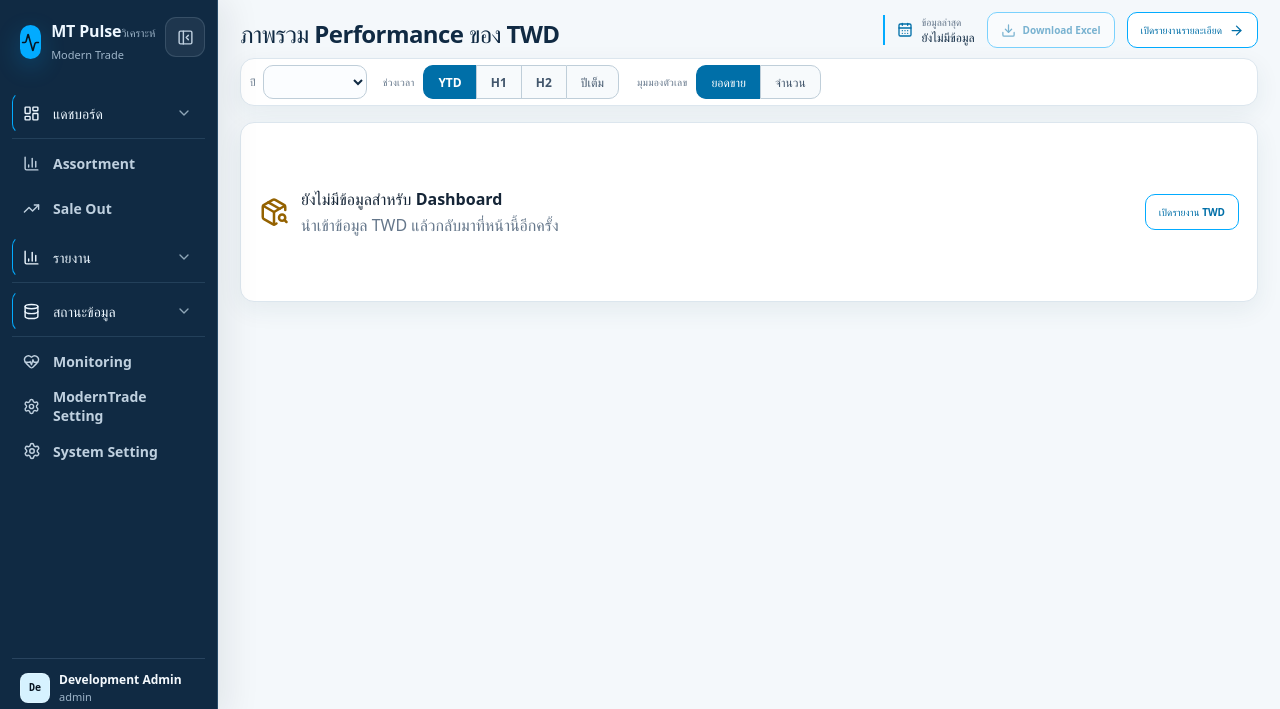
Test: App navigation › opens Sale Out as a direct main menu while dropdown groups remain closed
Click the button "Sale Out" at [108, 208], box [12,187,205,229]
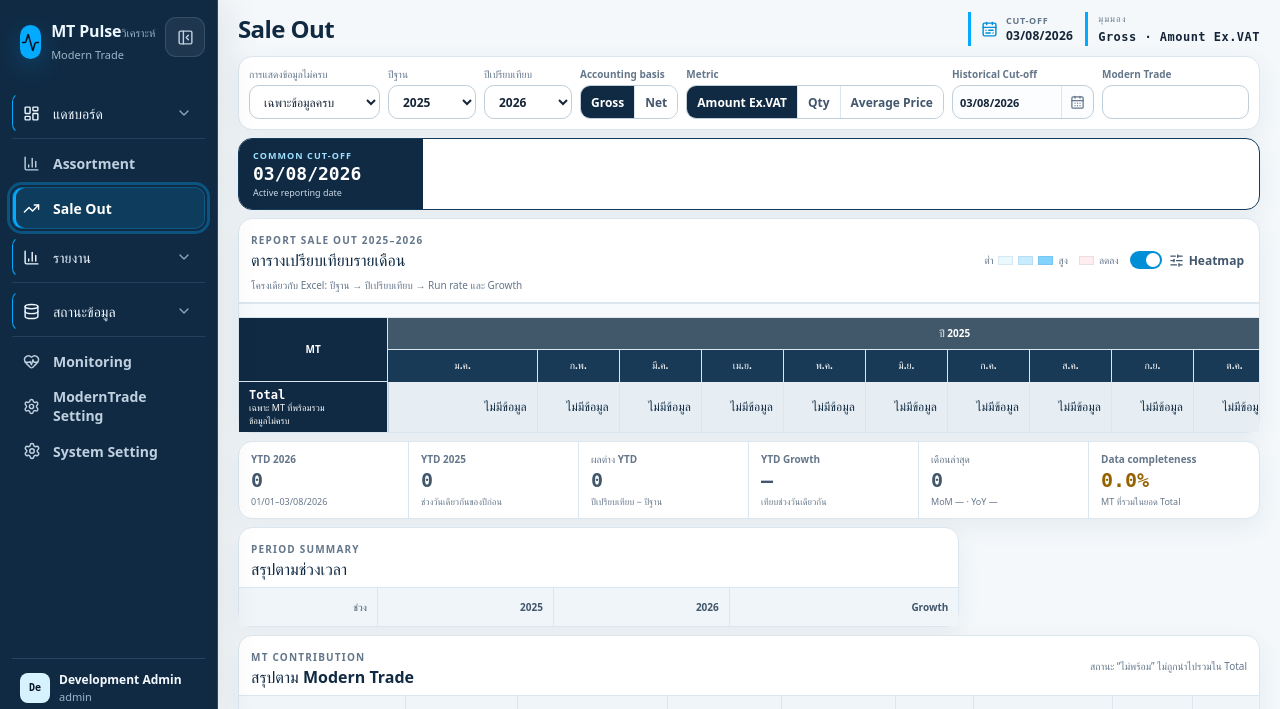
Now the heading "Sale Out" is shown, box [238,15,334,43]
